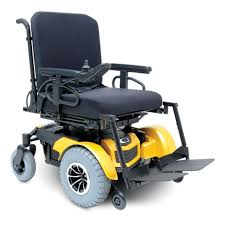wheelchair: (1, 8, 208, 208)
